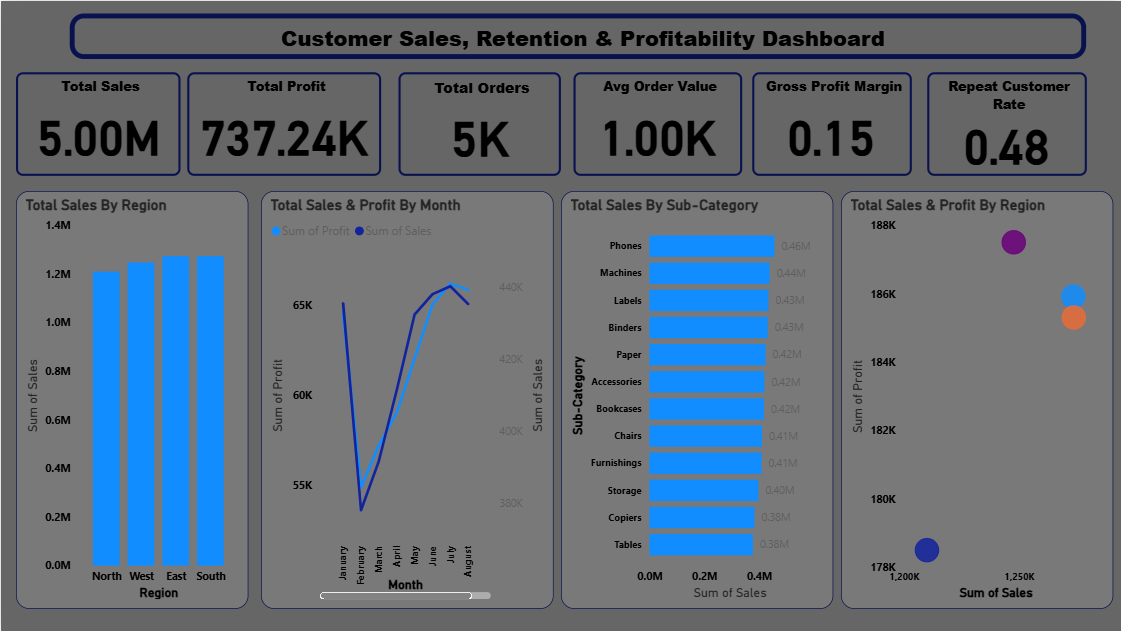

The page's visual inventory and layout, read from the dashboard file:
{"tool":"powerbi","page":{"name":"Page 1","canvas":[1280,720],"ordinal":0},"visuals":[{"type":"clusteredColumnChart","title":"Total Sales By Region","fields":{"Category":["customer_sales_retention_profit.Region"],"Y":["Sum(customer_sales_retention_profit.Sales)"]},"box":[16.9,217.2,265.4,477.8],"z":0},{"type":"lineChart","title":"Total Sales & Profit By Month","fields":{"Category":["customer_sales_retention_profit.Order Date.Variation.Date Hierarchy.Month"],"Y2":["Sum(customer_sales_retention_profit.Sales)"],"Y":["Sum(customer_sales_retention_profit.Profit)"]},"box":[296.8,217.2,334.2,477.8],"z":1000},{"type":"clusteredBarChart","title":"Total Sales By Sub-Category","fields":{"Category":["customer_sales_retention_profit.Sub-Category"],"Y":["Sum(customer_sales_retention_profit.Sales)"]},"box":[639.4,217.2,311.3,477.8],"z":2000},{"type":"scatterChart","title":"Total Sales & Profit By Region","fields":{"X":["Sum(customer_sales_retention_profit.Sales)"],"Y":["Sum(customer_sales_retention_profit.Profit)"],"Category":["customer_sales_retention_profit.Region"]},"box":[960.3,217.2,311.3,477.8],"z":3000},{"type":"card","title":"Total Profit","fields":{"Values":["Sum(customer_sales_retention_profit.Profit)"]},"box":[213.5,82,222,118.2],"z":4000},{"type":"card","title":"Total Sales","fields":{"Values":["Sum(customer_sales_retention_profit.Sales)"]},"box":[16.9,82,188.2,118.2],"z":5000},{"type":"card","title":"Total Orders","fields":{"Values":["CountNonNull(customer_sales_retention_profit.Order ID)"]},"box":[453.6,82,185.8,118.2],"z":6000},{"type":"card","title":"Avg Order Value","fields":{"Values":["customer_sales_retention_profit.Avg Order"]},"box":[653.9,82,193,118.2],"z":7000},{"type":"card","title":"Gross Profit Margin","fields":{"Values":["customer_sales_retention_profit.gross profit"]},"box":[859,82,182.2,118.2],"z":8000},{"type":"card","title":"Repeat Customer Rate","fields":{"Values":["customer_sales_retention_profit.Repeat Customer Rate %"]},"box":[1058,82,182.2,118.2],"z":9000},{"type":"textbox","title":"Customer Sales, Retention & Profitability Dashboard","box":[78.4,14.5,1161.8,51.9],"z":10000}]}

Visuals, with their boxes in screenshot pixels (x1, y1, x2, y2), scaled from the page's 1280x720 canvas onto the 1121x631 screenshot:
"Total Sales By Region" clusteredColumnChart: select_region(15, 190, 247, 609)
"Total Sales & Profit By Month" lineChart: select_region(260, 190, 553, 609)
"Total Sales By Sub-Category" clusteredBarChart: select_region(560, 190, 833, 609)
"Total Sales & Profit By Region" scatterChart: select_region(841, 190, 1114, 609)
"Total Profit" card: select_region(187, 72, 381, 175)
"Total Sales" card: select_region(15, 72, 180, 175)
"Total Orders" card: select_region(397, 72, 560, 175)
"Avg Order Value" card: select_region(573, 72, 742, 175)
"Gross Profit Margin" card: select_region(752, 72, 912, 175)
"Repeat Customer Rate" card: select_region(927, 72, 1086, 175)
"Customer Sales, Retention & Profitability Dashboard" textbox: select_region(69, 13, 1086, 58)
